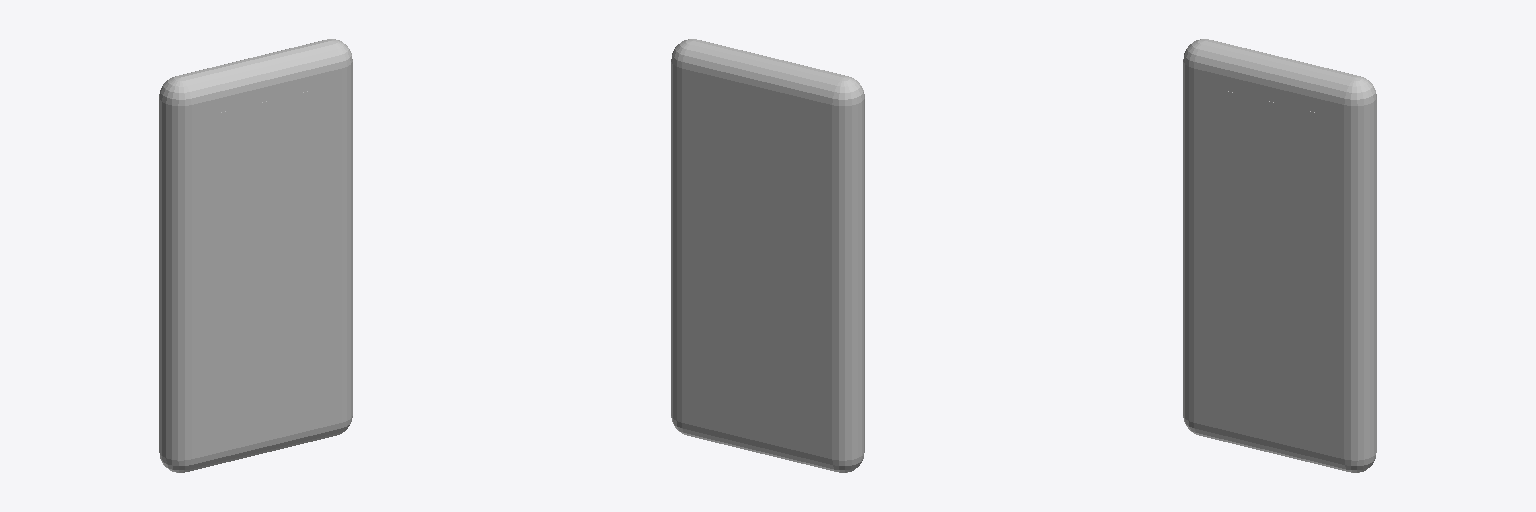
File: phone-3d-model.obj
3 renders of one model, left to right at view 1: azimuth 30°, elevation 25°; view 2: azimuth 150°, elevation 25°; view 3: azimuth 330°, elevation 25°, orthographic.
Visible parts, largest first — view 1: Cube.1, Cube; view 2: Cube; view 3: Cube.1, Cube.
Part boxes in pixels (left/top/right/bottom): Cube.1: left=192, top=83, right=341, bottom=434; Cube: left=159, top=39, right=352, bottom=472; Cube: left=671, top=39, right=864, bottom=472; Cube.1: left=1194, top=83, right=1343, bottom=434; Cube: left=1183, top=39, right=1376, bottom=472.
Bounding box in the file's own units: 10 × 20 × 2.